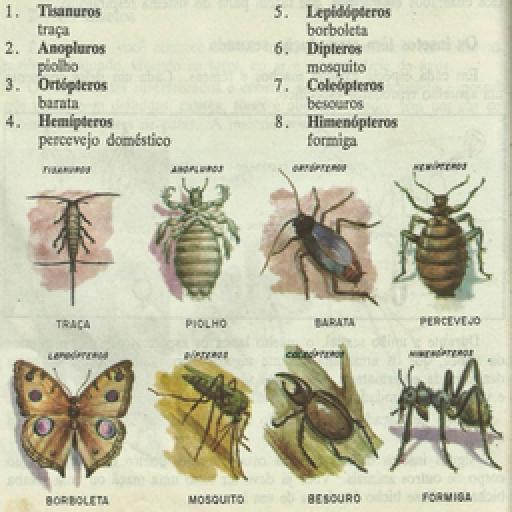insects: (9, 358, 136, 487), (264, 170, 384, 304), (19, 185, 134, 310), (388, 360, 504, 472), (149, 360, 254, 482), (390, 177, 493, 298), (270, 366, 380, 472), (152, 180, 238, 298)
